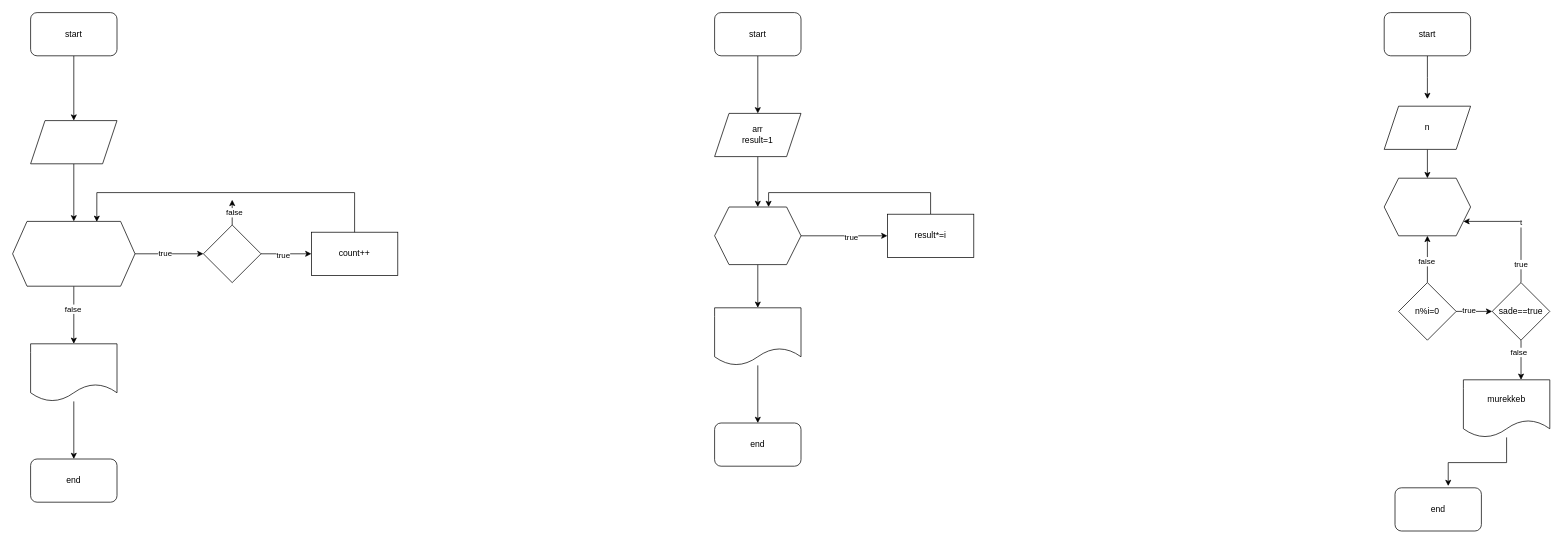
Image size: 1562x544. Some labels were removed from this diagram. The shapes that lost their labels are listed below. From the top down, each one's centre as x and y in pixels, then its label:
(73,142): arr count=0
(1427,206): i=2,i<n,i++
(73,253): inti=0,i<arr.length,i++
(232,253): i%2==0
(757,235): inti=1,i<20,i++
(757,336): result
(73,372): count
